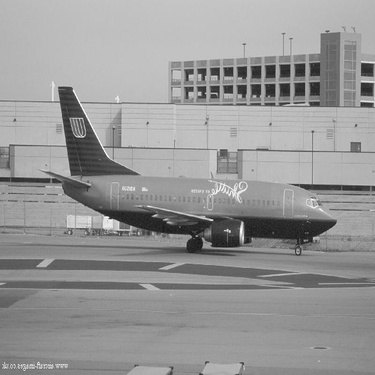airplane: (37, 74, 345, 269)
